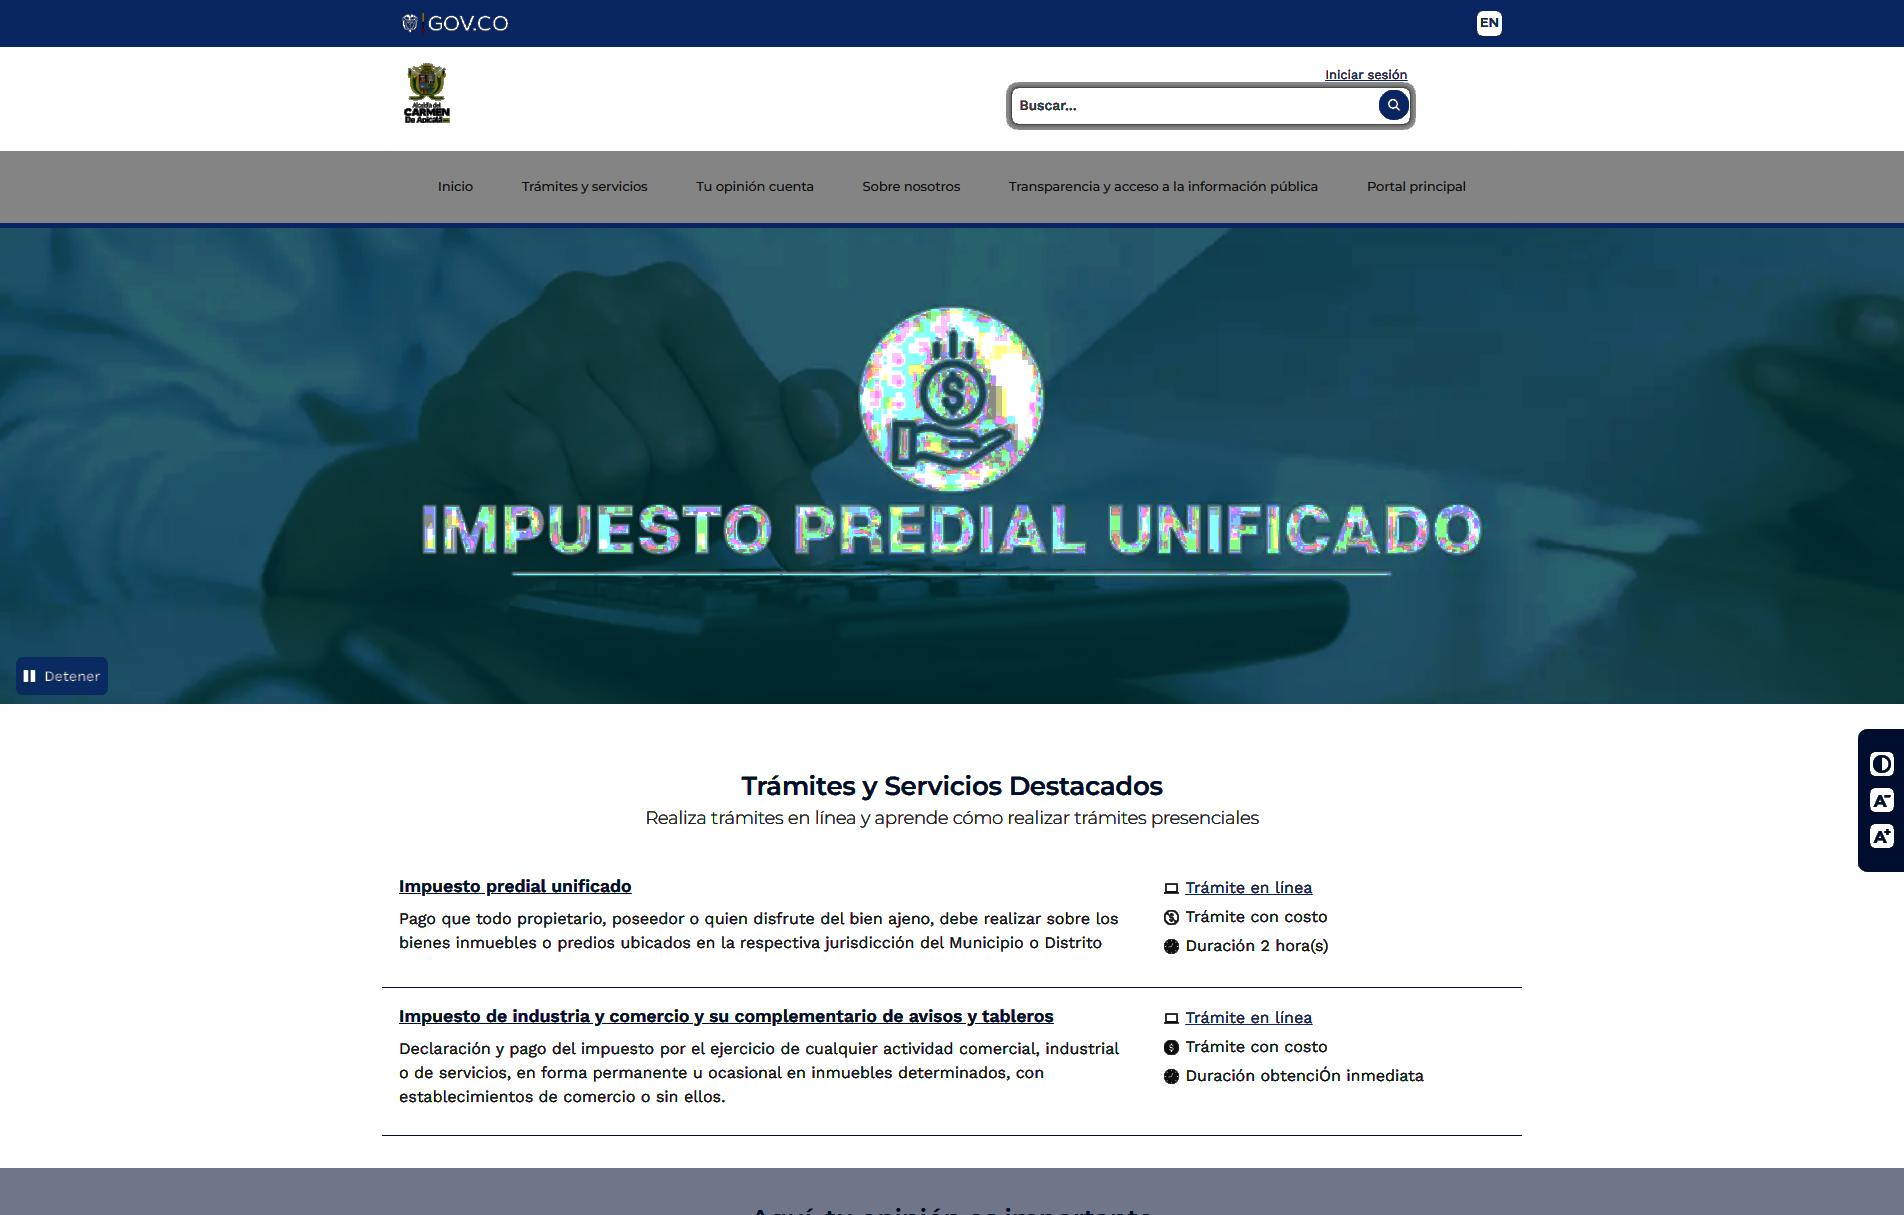banner principal: (0, 215, 1904, 708)
barra accesibilidad: (1855, 725, 1904, 874)
barra govco: (399, 3, 1506, 49)
btn buscador: (1009, 85, 1413, 128)
btn idiomas: (1476, 11, 1503, 39)
btn inicio: (432, 175, 478, 198)
btn inicio sesion: (1324, 67, 1409, 84)
btn tramites: (735, 769, 1169, 806), (517, 174, 651, 197)
btn transpariencia: (1005, 176, 1321, 197)
logogovco: (400, 10, 512, 38)
menu principal: (430, 166, 1473, 210)
